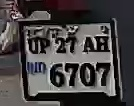0: (78, 62, 98, 87)
2: (56, 37, 67, 56)
6: (49, 62, 66, 88)
7: (95, 61, 112, 88), (64, 61, 79, 87), (65, 35, 78, 54)
A: (81, 34, 97, 56)
H: (94, 34, 111, 57)
P: (40, 38, 50, 55)
U: (26, 37, 40, 56)
